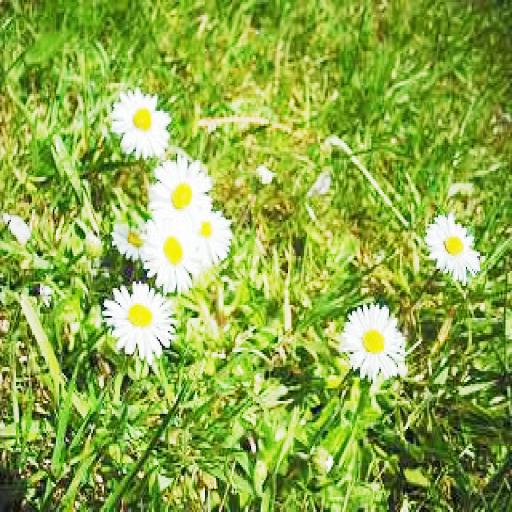daisy: (344, 305, 405, 380), (109, 286, 168, 356), (146, 218, 202, 290), (110, 92, 168, 156), (152, 162, 213, 222), (432, 218, 478, 284), (192, 211, 232, 260)
